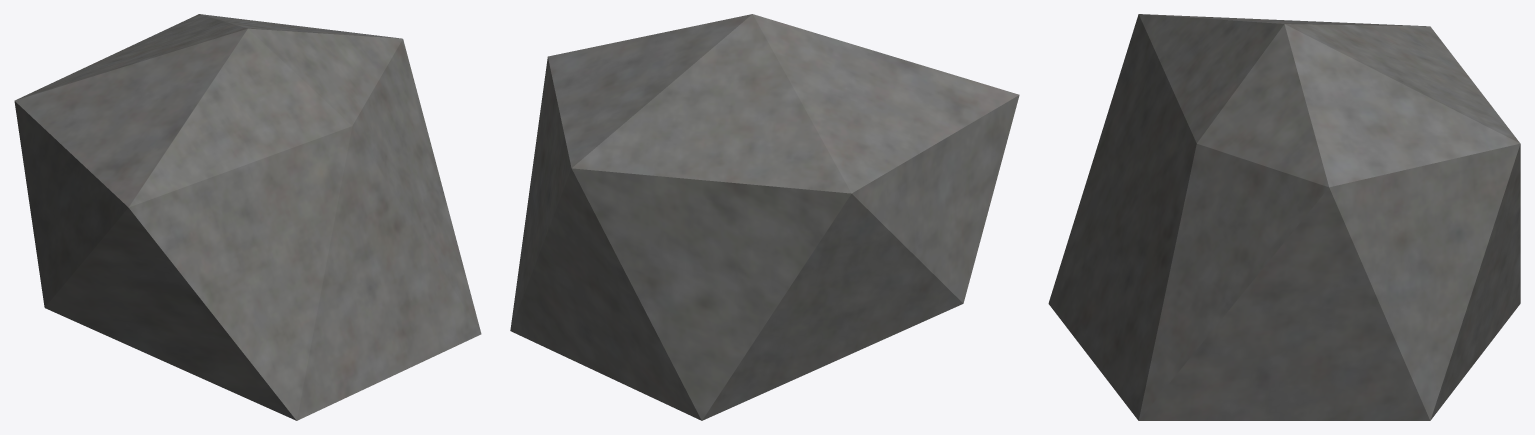
Rendered from small stone.glb.
3 renders of one model, left to right at view 1: azimuth 30°, elevation 25°; view 2: azimuth 150°, elevation 25°; view 3: azimuth 270°, elevation 25°, orthographic. The views are drawn at different scales.
Parts seen in each view (by area): view 1: Icosphere; view 2: Icosphere; view 3: Icosphere.
Part boxes in pixels (box(x1,y1,x2,y2)): Icosphere: box(14, 14, 481, 420); Icosphere: box(510, 14, 1019, 420); Icosphere: box(1048, 14, 1520, 420).
Bounding box in the file's own units: 1.67 × 1.45 × 1.7.
1 material, 1 textured.
